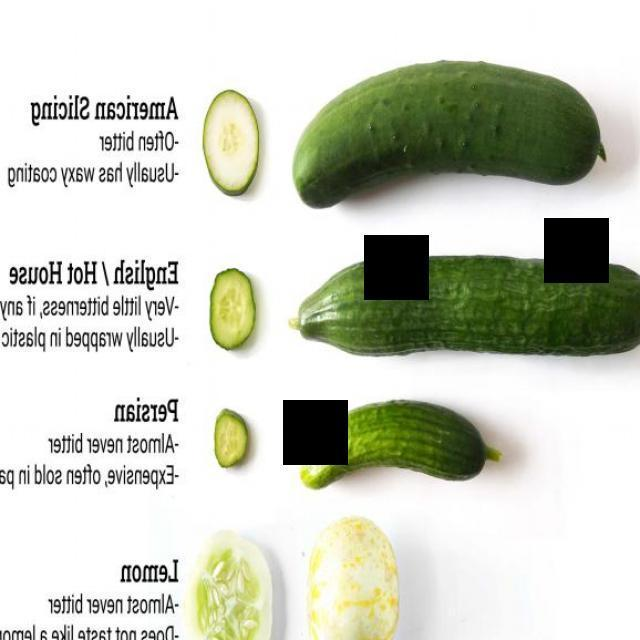cucumber: (290, 54, 606, 220), (285, 251, 640, 364), (296, 394, 502, 498)
